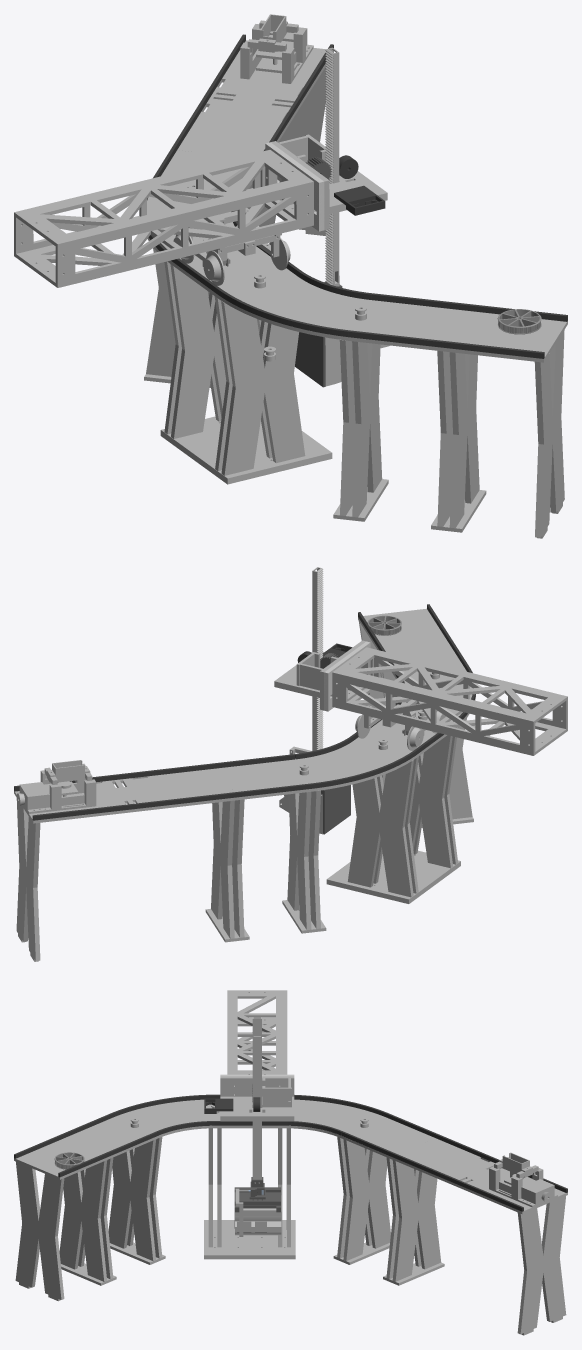
The model's file is beanbot.glb.
The picture shows the model from 3 angles, top to bottom: view 1: azimuth 30°, elevation 25°; view 2: azimuth 150°, elevation 25°; view 3: azimuth 270°, elevation 25°; orthographic projection. The views are drawn at different scales.
Visible parts, largest first — view 1: Solid1 (×35), Solid2 (×2), MeshFeature1; view 2: Solid1 (×26), Solid2 (×2), MeshFeature1; view 3: Solid1 (×32), Solid2 (×2).
Boxes of the visible parts, x1,y1,x2,y2 form: Solid1 (×35): [14, 14, 567, 538]; Solid2 (×2): [325, 47, 339, 286]; MeshFeature1: [497, 309, 541, 334]; Solid1 (×26): [14, 608, 567, 961]; Solid2 (×2): [312, 567, 323, 750]; MeshFeature1: [367, 615, 401, 635]; Solid1 (×32): [14, 990, 567, 1335]; Solid2 (×2): [252, 1017, 261, 1183].
Bounding box in the file's own units: 0.8422 × 0.6075 × 1.2.
Materials: 6 (1 with a texture image).
